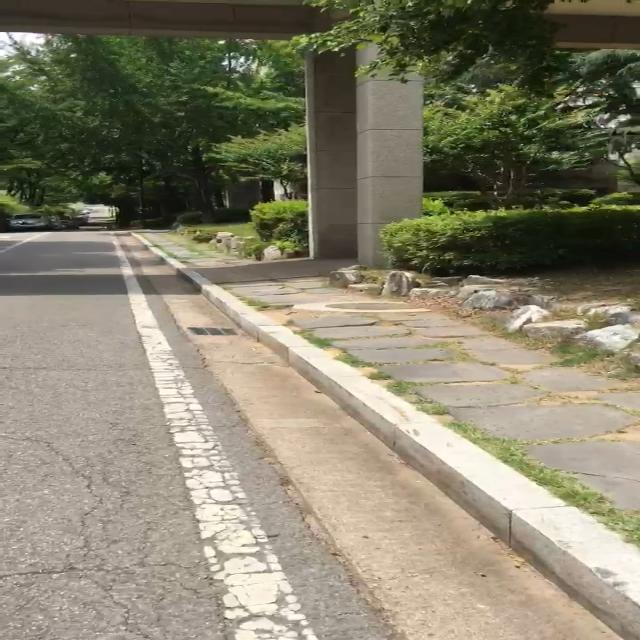obstacle: (5, 214, 80, 232)
road: (0, 232, 640, 640)
sidewalk: (200, 279, 640, 640), (144, 234, 258, 271)
